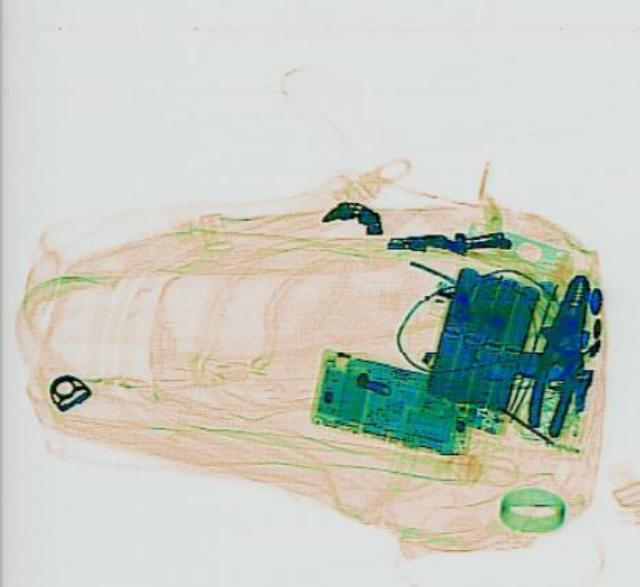Pliers: (514, 271, 604, 438)
